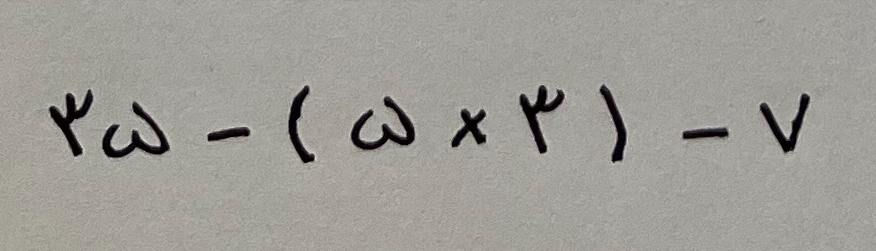character: (102, 101, 170, 160), (350, 95, 416, 152), (760, 92, 812, 154), (48, 88, 93, 158), (519, 85, 563, 156), (288, 85, 315, 164), (599, 85, 626, 163), (451, 109, 485, 149), (207, 126, 250, 142), (682, 127, 730, 139)
